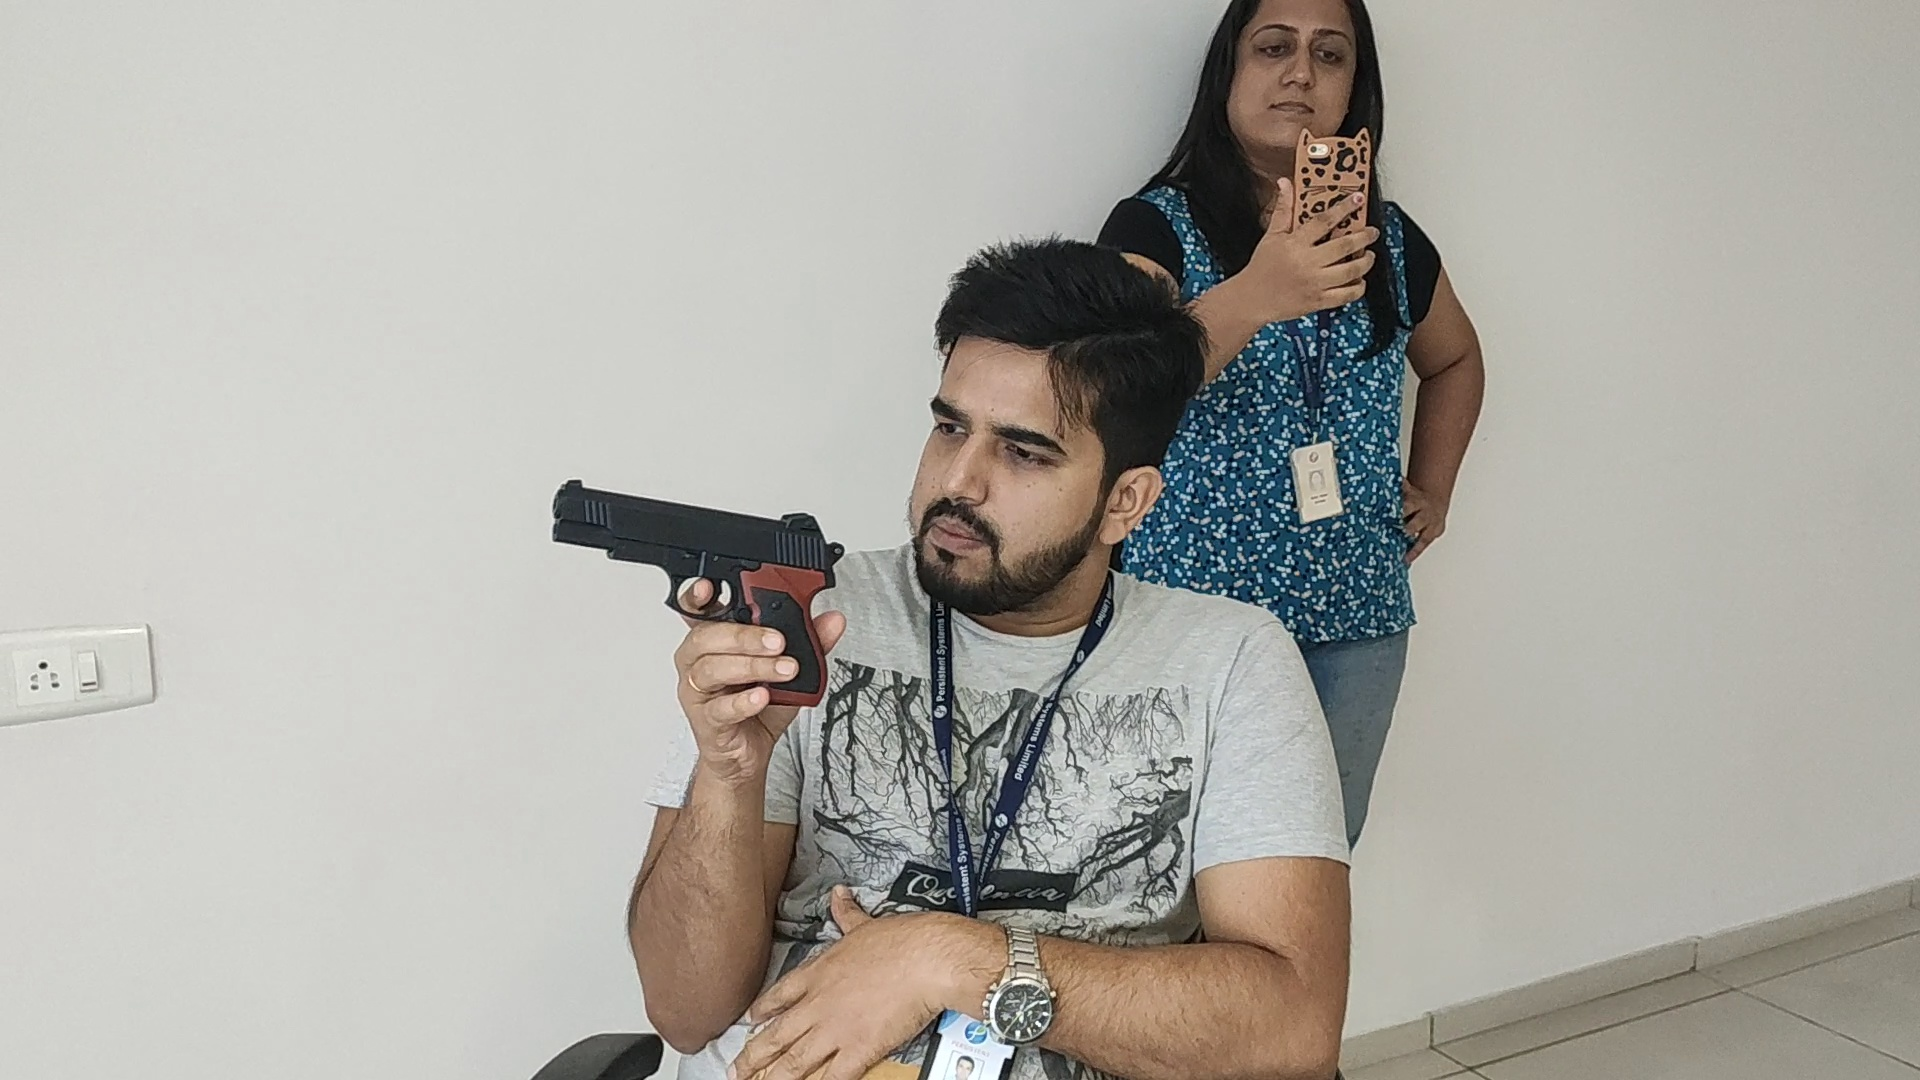gun: (551, 479, 845, 609)
